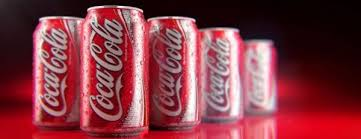can: (85, 5, 146, 139), (30, 2, 86, 137), (150, 14, 197, 121), (202, 23, 242, 137), (245, 32, 280, 120)
